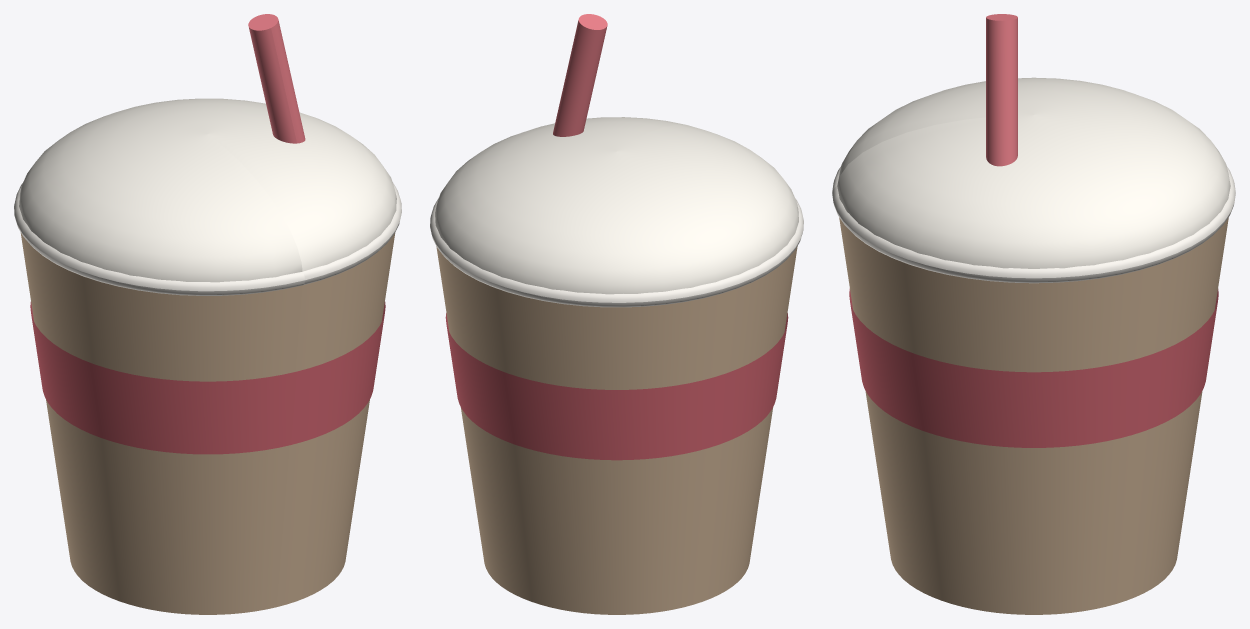
The model's file is dahong.glb.
3 views of the same model, side by side, from view 1: azimuth 30°, elevation 25°; view 2: azimuth 150°, elevation 25°; view 3: azimuth 270°, elevation 25° (orthographic). The views are drawn at different scales.
Visible parts, largest first — view 1: dahong-part-0, dahong-part-2, dahong-part-1, dahong-part-3, dahong-part-4; view 2: dahong-part-0, dahong-part-2, dahong-part-1, dahong-part-3, dahong-part-4; view 3: dahong-part-0, dahong-part-2, dahong-part-1, dahong-part-3, dahong-part-4.
Part boxes in pixels (bbox=[...]): dahong-part-0: bbox=[20, 232, 395, 614]; dahong-part-2: bbox=[19, 98, 396, 282]; dahong-part-1: bbox=[30, 302, 385, 454]; dahong-part-3: bbox=[14, 182, 401, 295]; dahong-part-4: bbox=[248, 14, 305, 143]; dahong-part-0: bbox=[436, 246, 797, 614]; dahong-part-2: bbox=[435, 117, 798, 294]; dahong-part-1: bbox=[445, 313, 788, 460]; dahong-part-3: bbox=[430, 198, 803, 307]; dahong-part-4: bbox=[553, 14, 607, 136]; dahong-part-0: bbox=[839, 217, 1228, 614]; dahong-part-2: bbox=[837, 77, 1230, 268]; dahong-part-1: bbox=[849, 288, 1218, 447]; dahong-part-3: bbox=[832, 167, 1235, 283]; dahong-part-4: bbox=[986, 14, 1017, 166].
Size of the model in its own units: 1.27 by 1.94 by 1.27.
